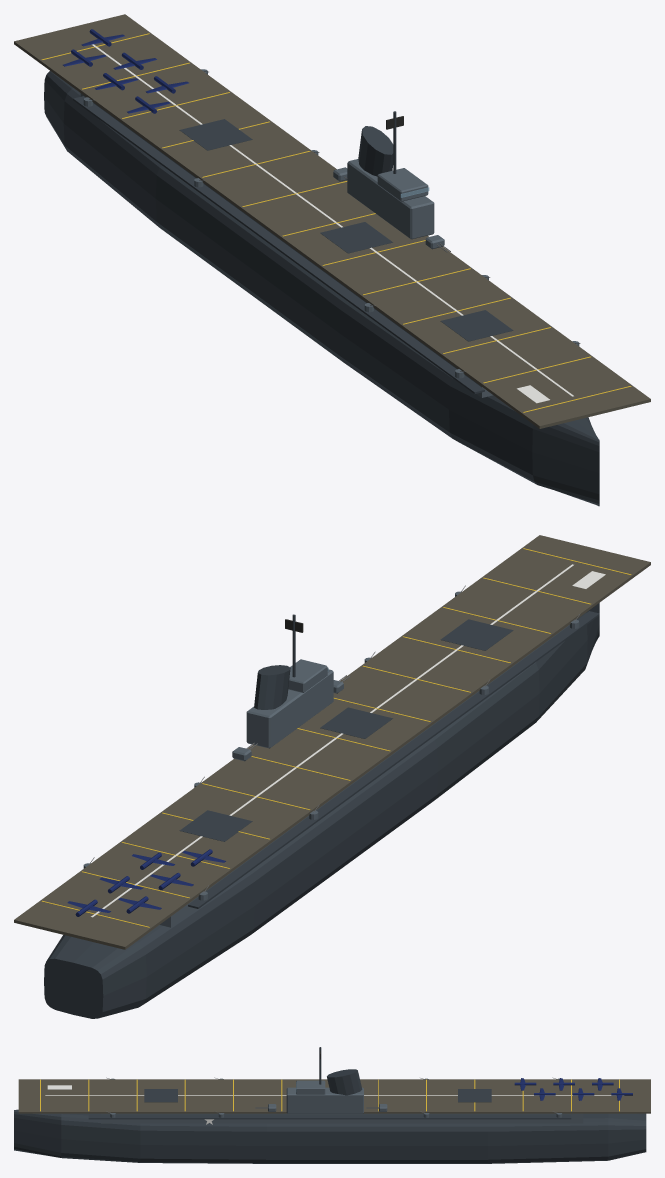
File: porta_avioes.glb
3 views of the same model, one above another, from view 1: azimuth 30°, elevation 25°; view 2: azimuth 150°, elevation 25°; view 3: azimuth 270°, elevation 25° (orthographic). The views are drawn at different scales.
Visible parts, largest first — view 1: Navio; view 2: Navio; view 3: Navio.
Part boxes in pixels (<box>): Navio: <box>14,14,650,506</box>; Navio: <box>14,535,650,1018</box>; Navio: <box>14,1047,650,1163</box>.
Size of the model in its own units: 36.55 by 55.5 by 264.
